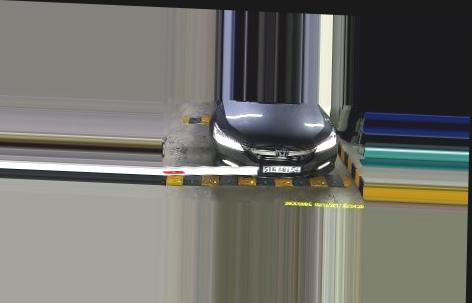License_Plate: (258, 162, 303, 177)
